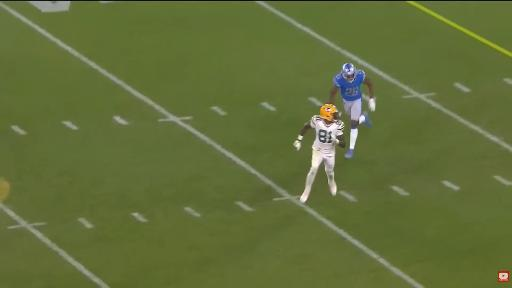Helmet: (320, 104, 338, 121), (341, 63, 357, 82)
Jersey: (310, 116, 344, 154), (334, 70, 365, 101)
Player: (294, 104, 345, 202), (330, 64, 375, 158)
